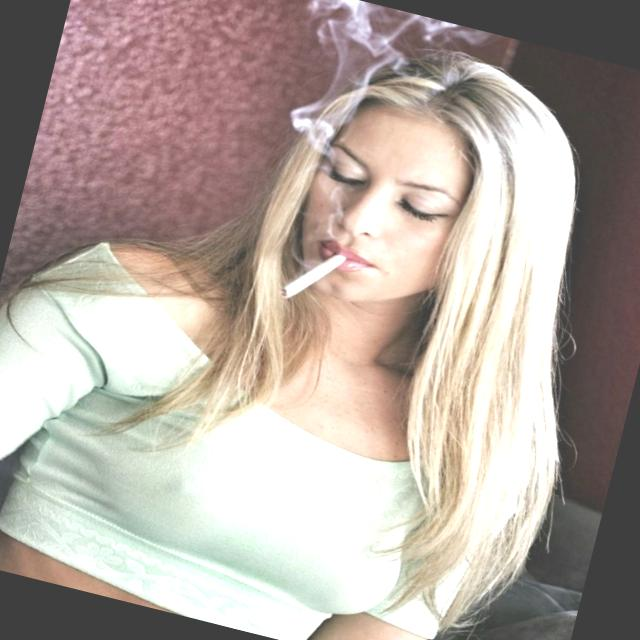smoke: (270, 239, 352, 325)
